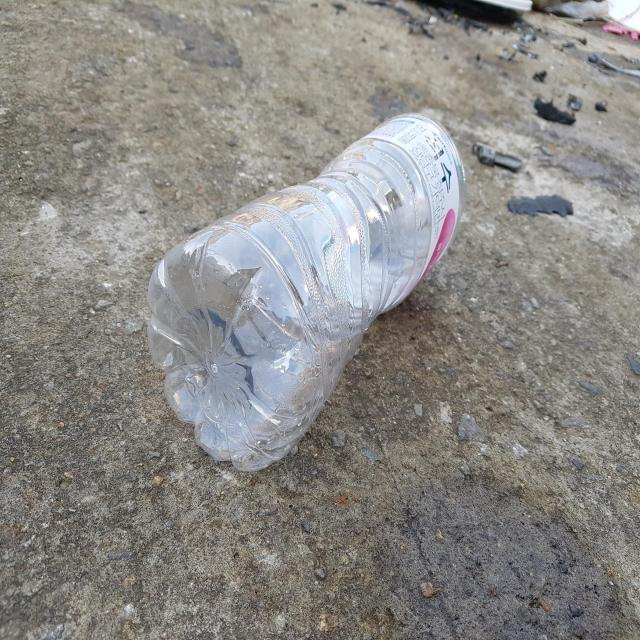plastic: (147, 114, 466, 471)
